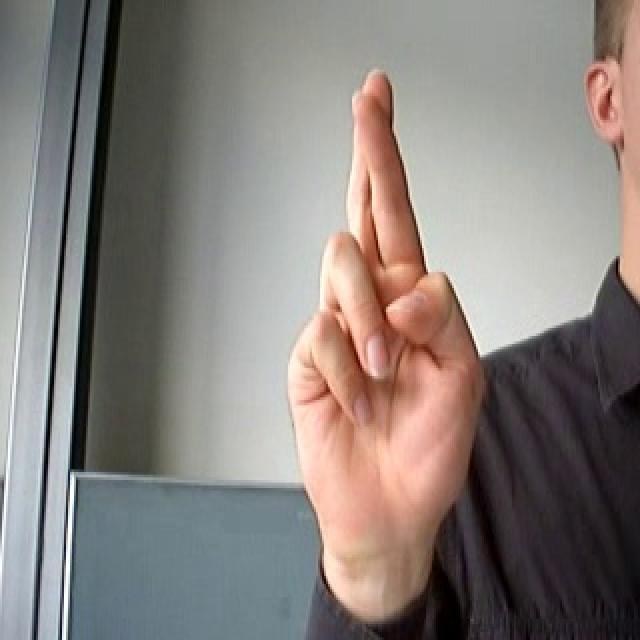R: (277, 64, 492, 566)
